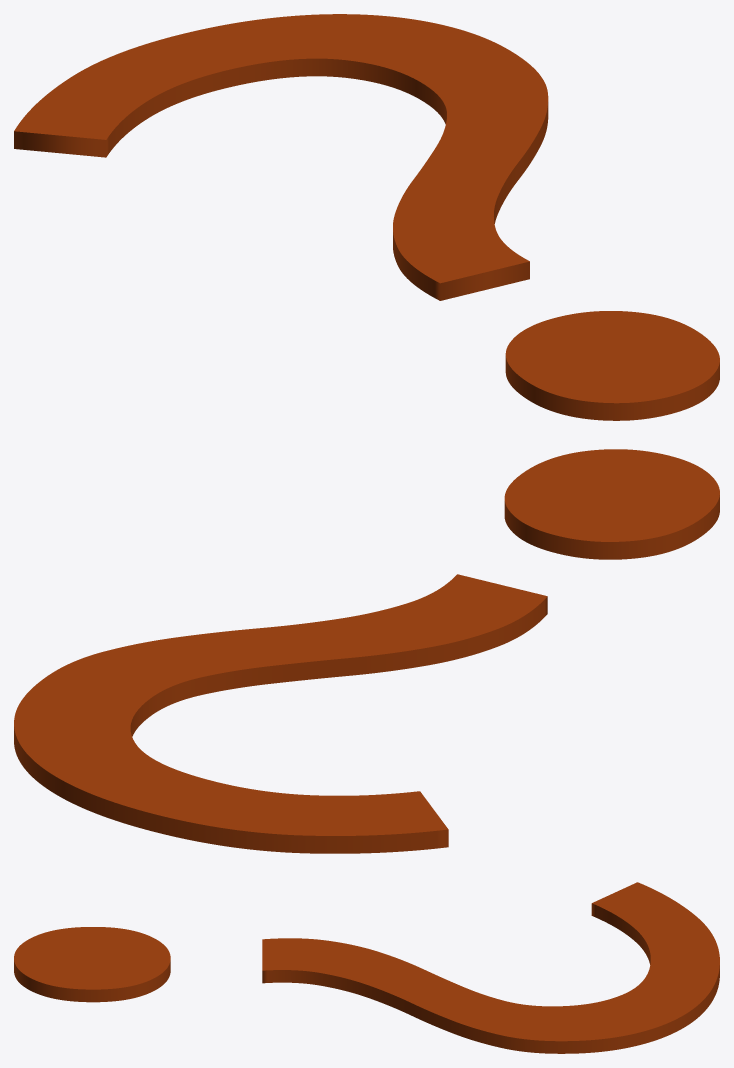
File: questionmark.obj
The picture shows the model from 3 angles, top to bottom: view 1: azimuth 30°, elevation 25°; view 2: azimuth 150°, elevation 25°; view 3: azimuth 270°, elevation 25°; orthographic projection. The views are drawn at different scales.
Visible parts, largest first — view 1: Text_CUText; view 2: Text_CUText; view 3: Text_CUText.
Part boxes in pixels (<box>): Text_CUText: <box>14,14,719,420</box>; Text_CUText: <box>14,449,719,853</box>; Text_CUText: <box>14,882,719,1053</box>.
Size of the model in its own units: 0.5395 by 0.02 by 1.01.
